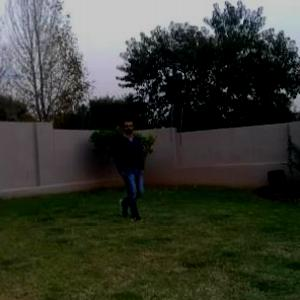follow: (115, 120, 145, 219)
